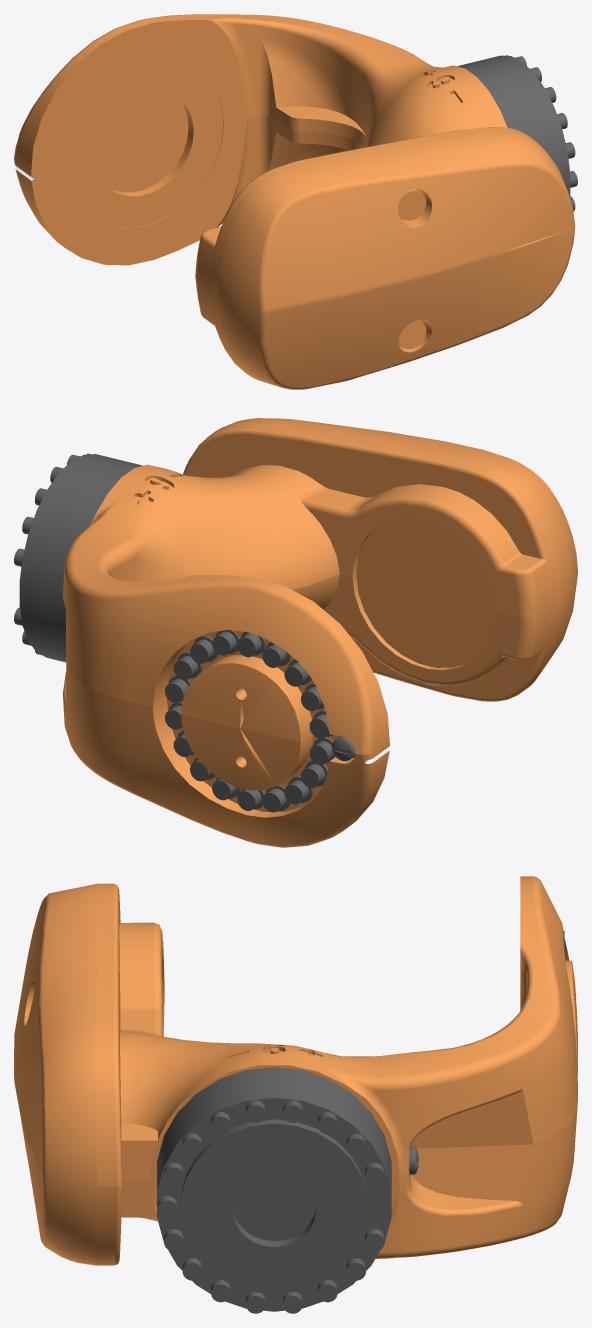
The picture shows the model from 3 angles, top to bottom: view 1: azimuth 30°, elevation 25°; view 2: azimuth 150°, elevation 25°; view 3: azimuth 270°, elevation 25°; orthographic projection. The views are drawn at different scales.
Visible parts, largest first — view 1: link_5; view 2: link_5; view 3: link_5.
Boxes of the visible parts, x1,y1,x2,y2 form: link_5: (14,14,577,389); link_5: (14,418,577,847); link_5: (14,876,577,1313).
Size of the model in its own units: 0.202 by 0.2006 by 0.115.
